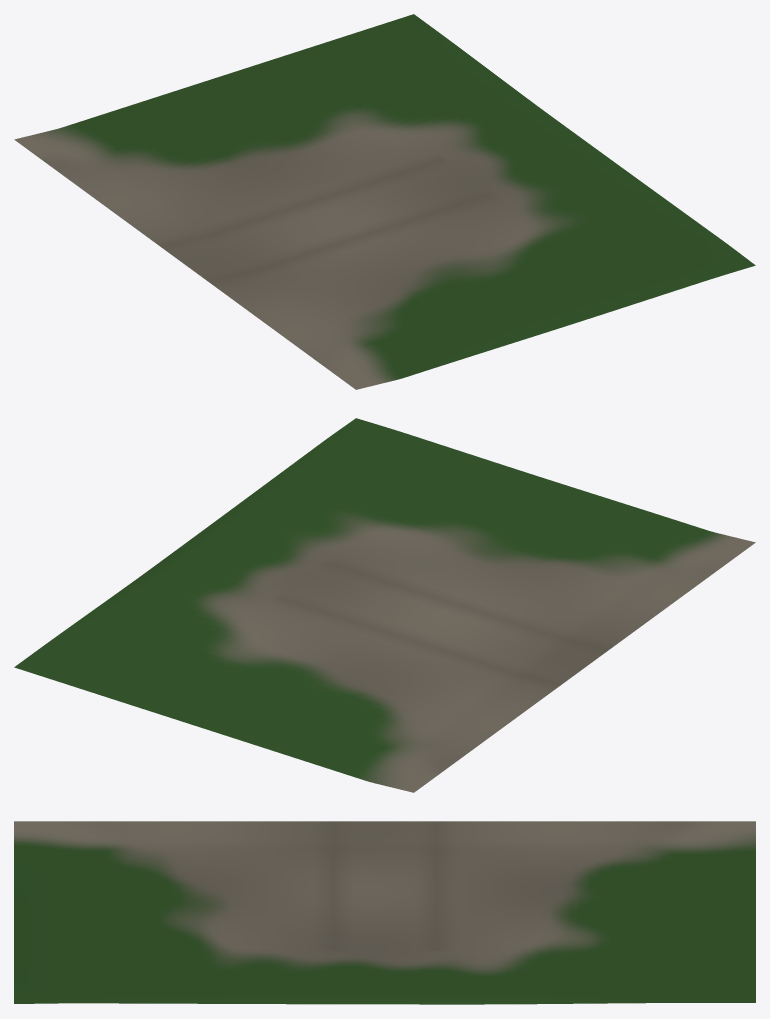
Rendered from driveway.glb.
3 views of the same model, one above another, from view 1: azimuth 30°, elevation 25°; view 2: azimuth 150°, elevation 25°; view 3: azimuth 270°, elevation 25° (orthographic). The views are drawn at different scales.
Visible parts, largest first — view 1: driveway; view 2: driveway; view 3: driveway.
Boxes of the visible parts, x1=… form: driveway: x1=14, y1=14, x2=755, y2=389; driveway: x1=14, y1=418, x2=755, y2=792; driveway: x1=14, y1=821, x2=755, y2=1004.
Bounding box in the file's own units: 27 × 1.8 × 40.
